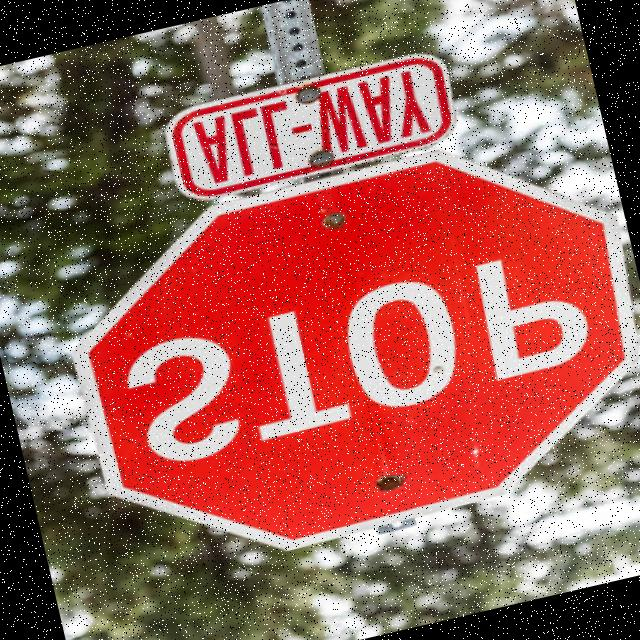stop: (19, 109, 640, 604)
